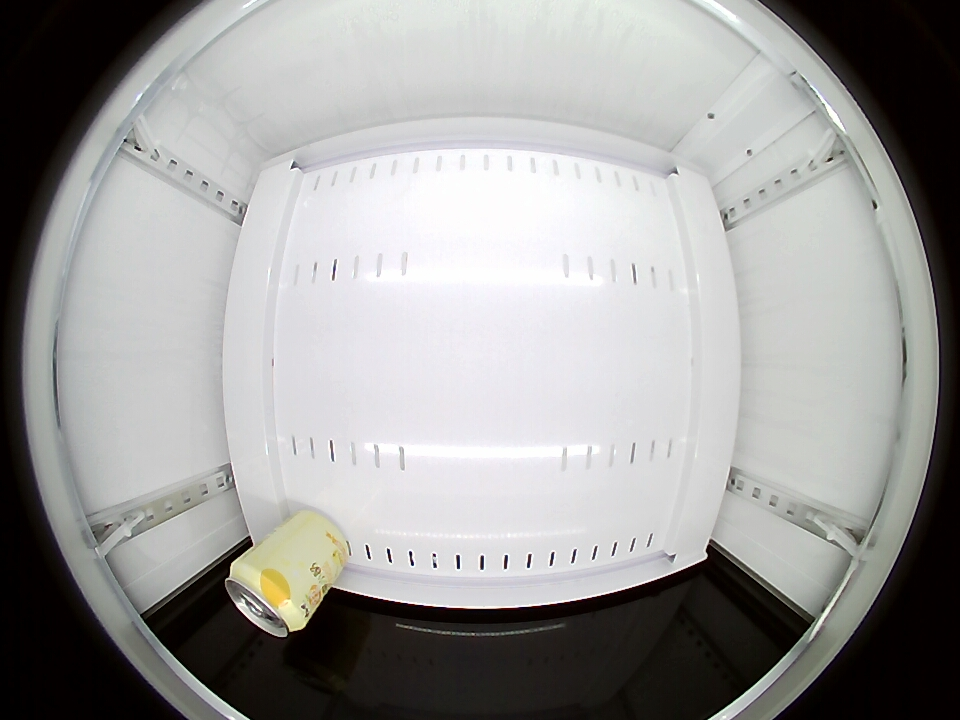mangguoxiaolao: (225, 561, 308, 638)
